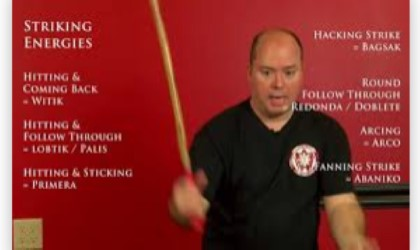baston_e: (144, 6, 203, 176)
